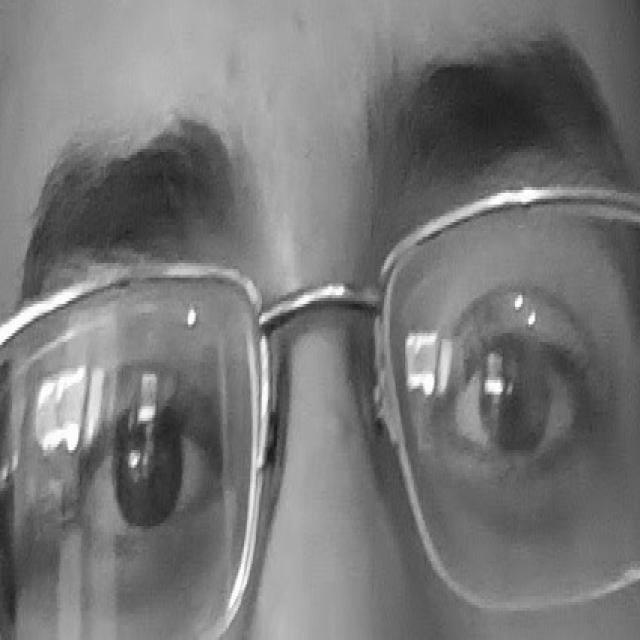real: (17, 244, 602, 586)
